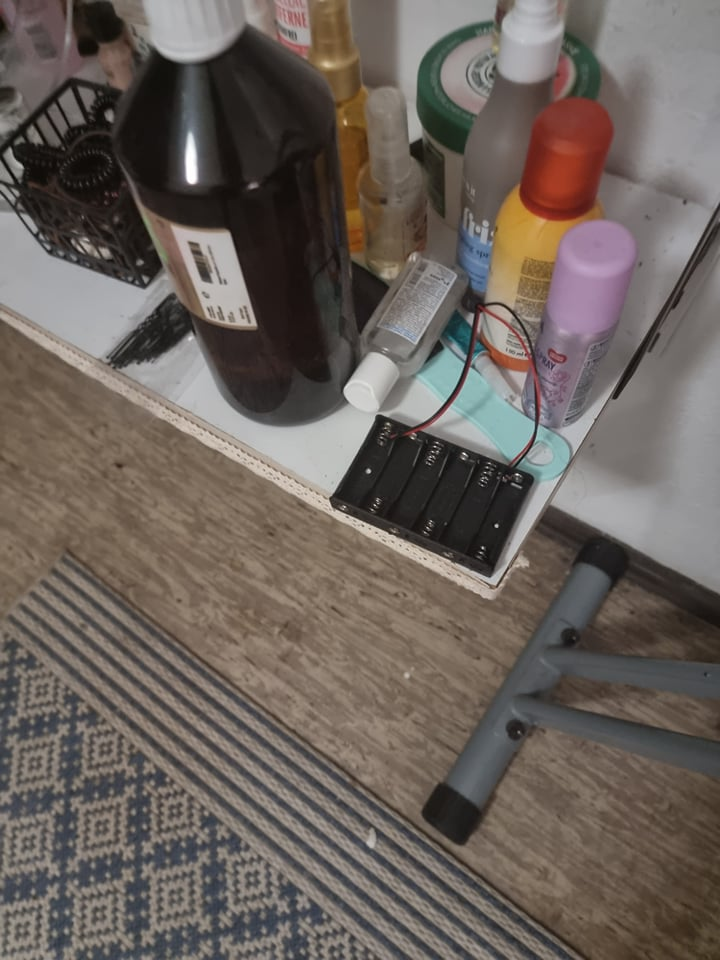BATTERY BOX: (334, 408, 537, 579)
